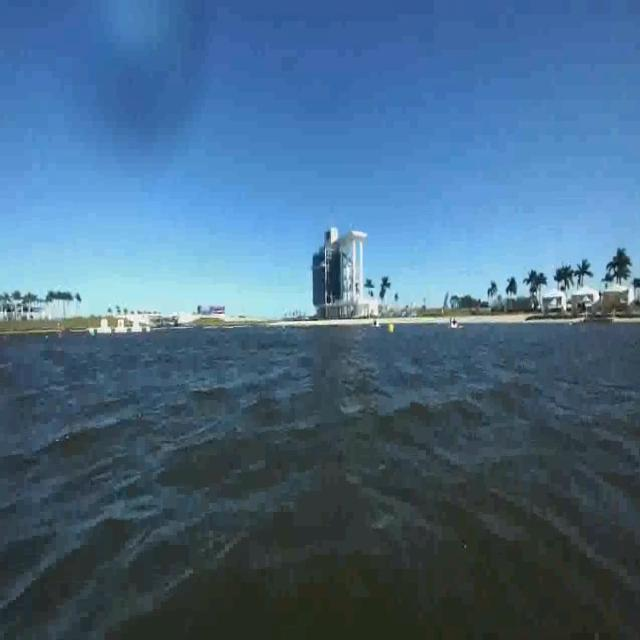yellow-buoy: (386, 324, 393, 338)
